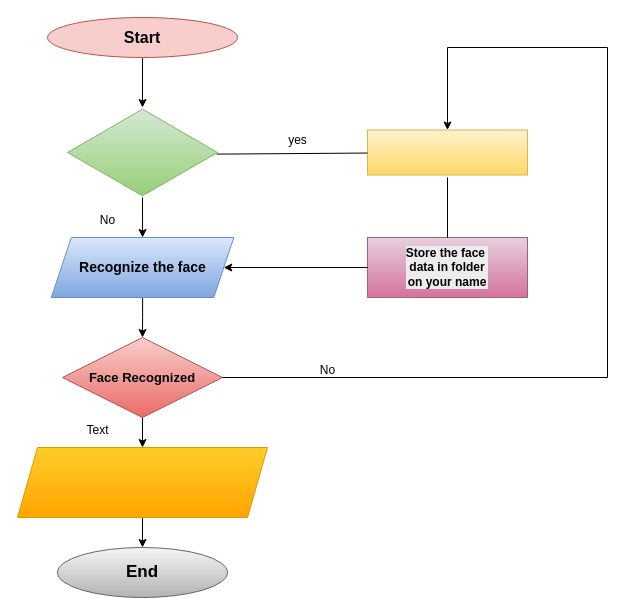
The diagram is 626 pixels wide and 615 high, and some of its shapes have lost their labels. Here are the shapes that lost their labels. From the top down, the centre of each, then its label:
point (142, 152): New User?
point (447, 152): Give your Photograph
point (142, 482): Stored in CVS file with Registration Number & Data Time of Entry
